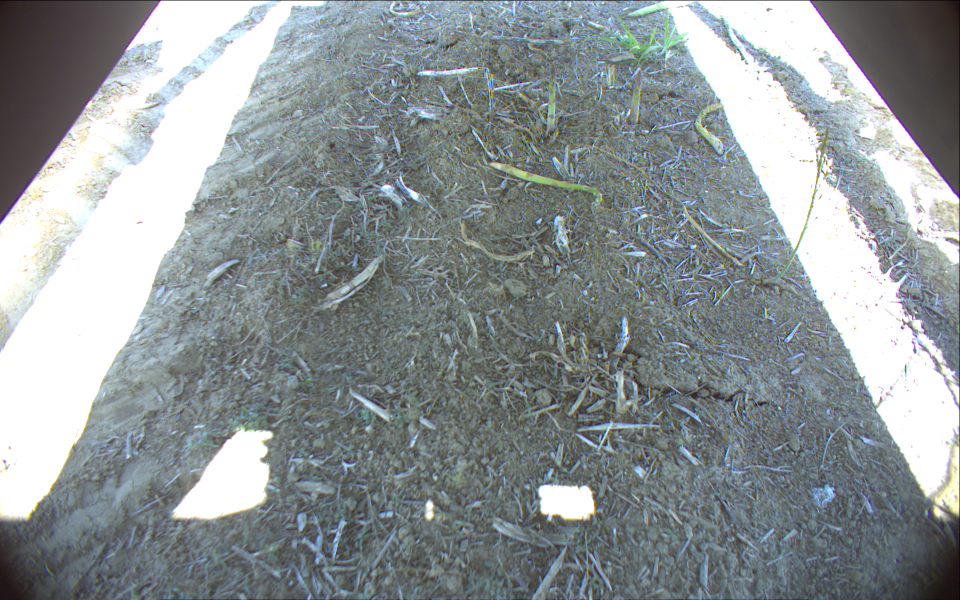aspa: (542, 61, 559, 136), (626, 67, 646, 127)
